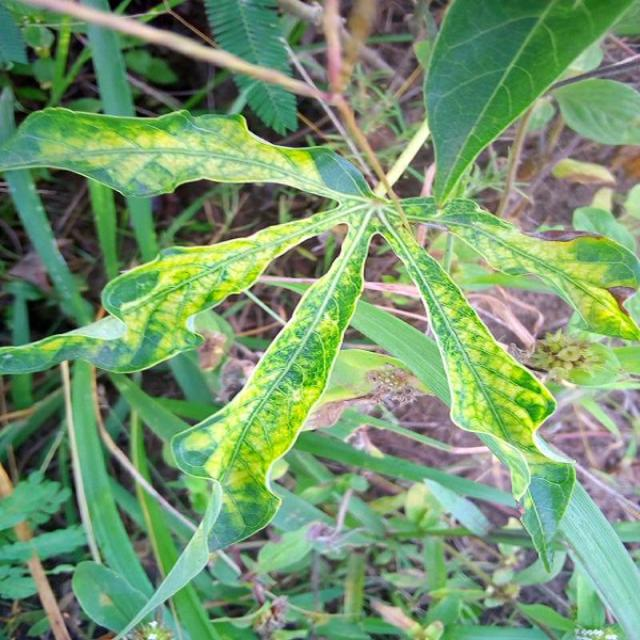cassava leaf: (0, 1, 638, 637), (420, 0, 638, 209), (0, 103, 373, 205)
